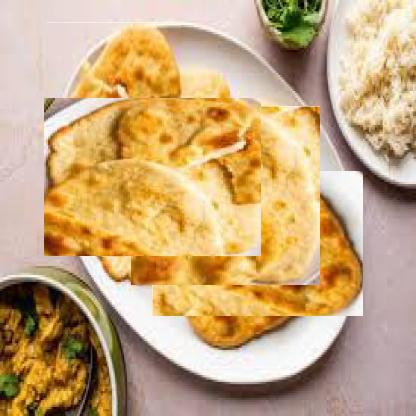naan: (58, 83, 246, 271), (133, 104, 318, 288), (169, 154, 347, 333), (47, 22, 181, 187)
